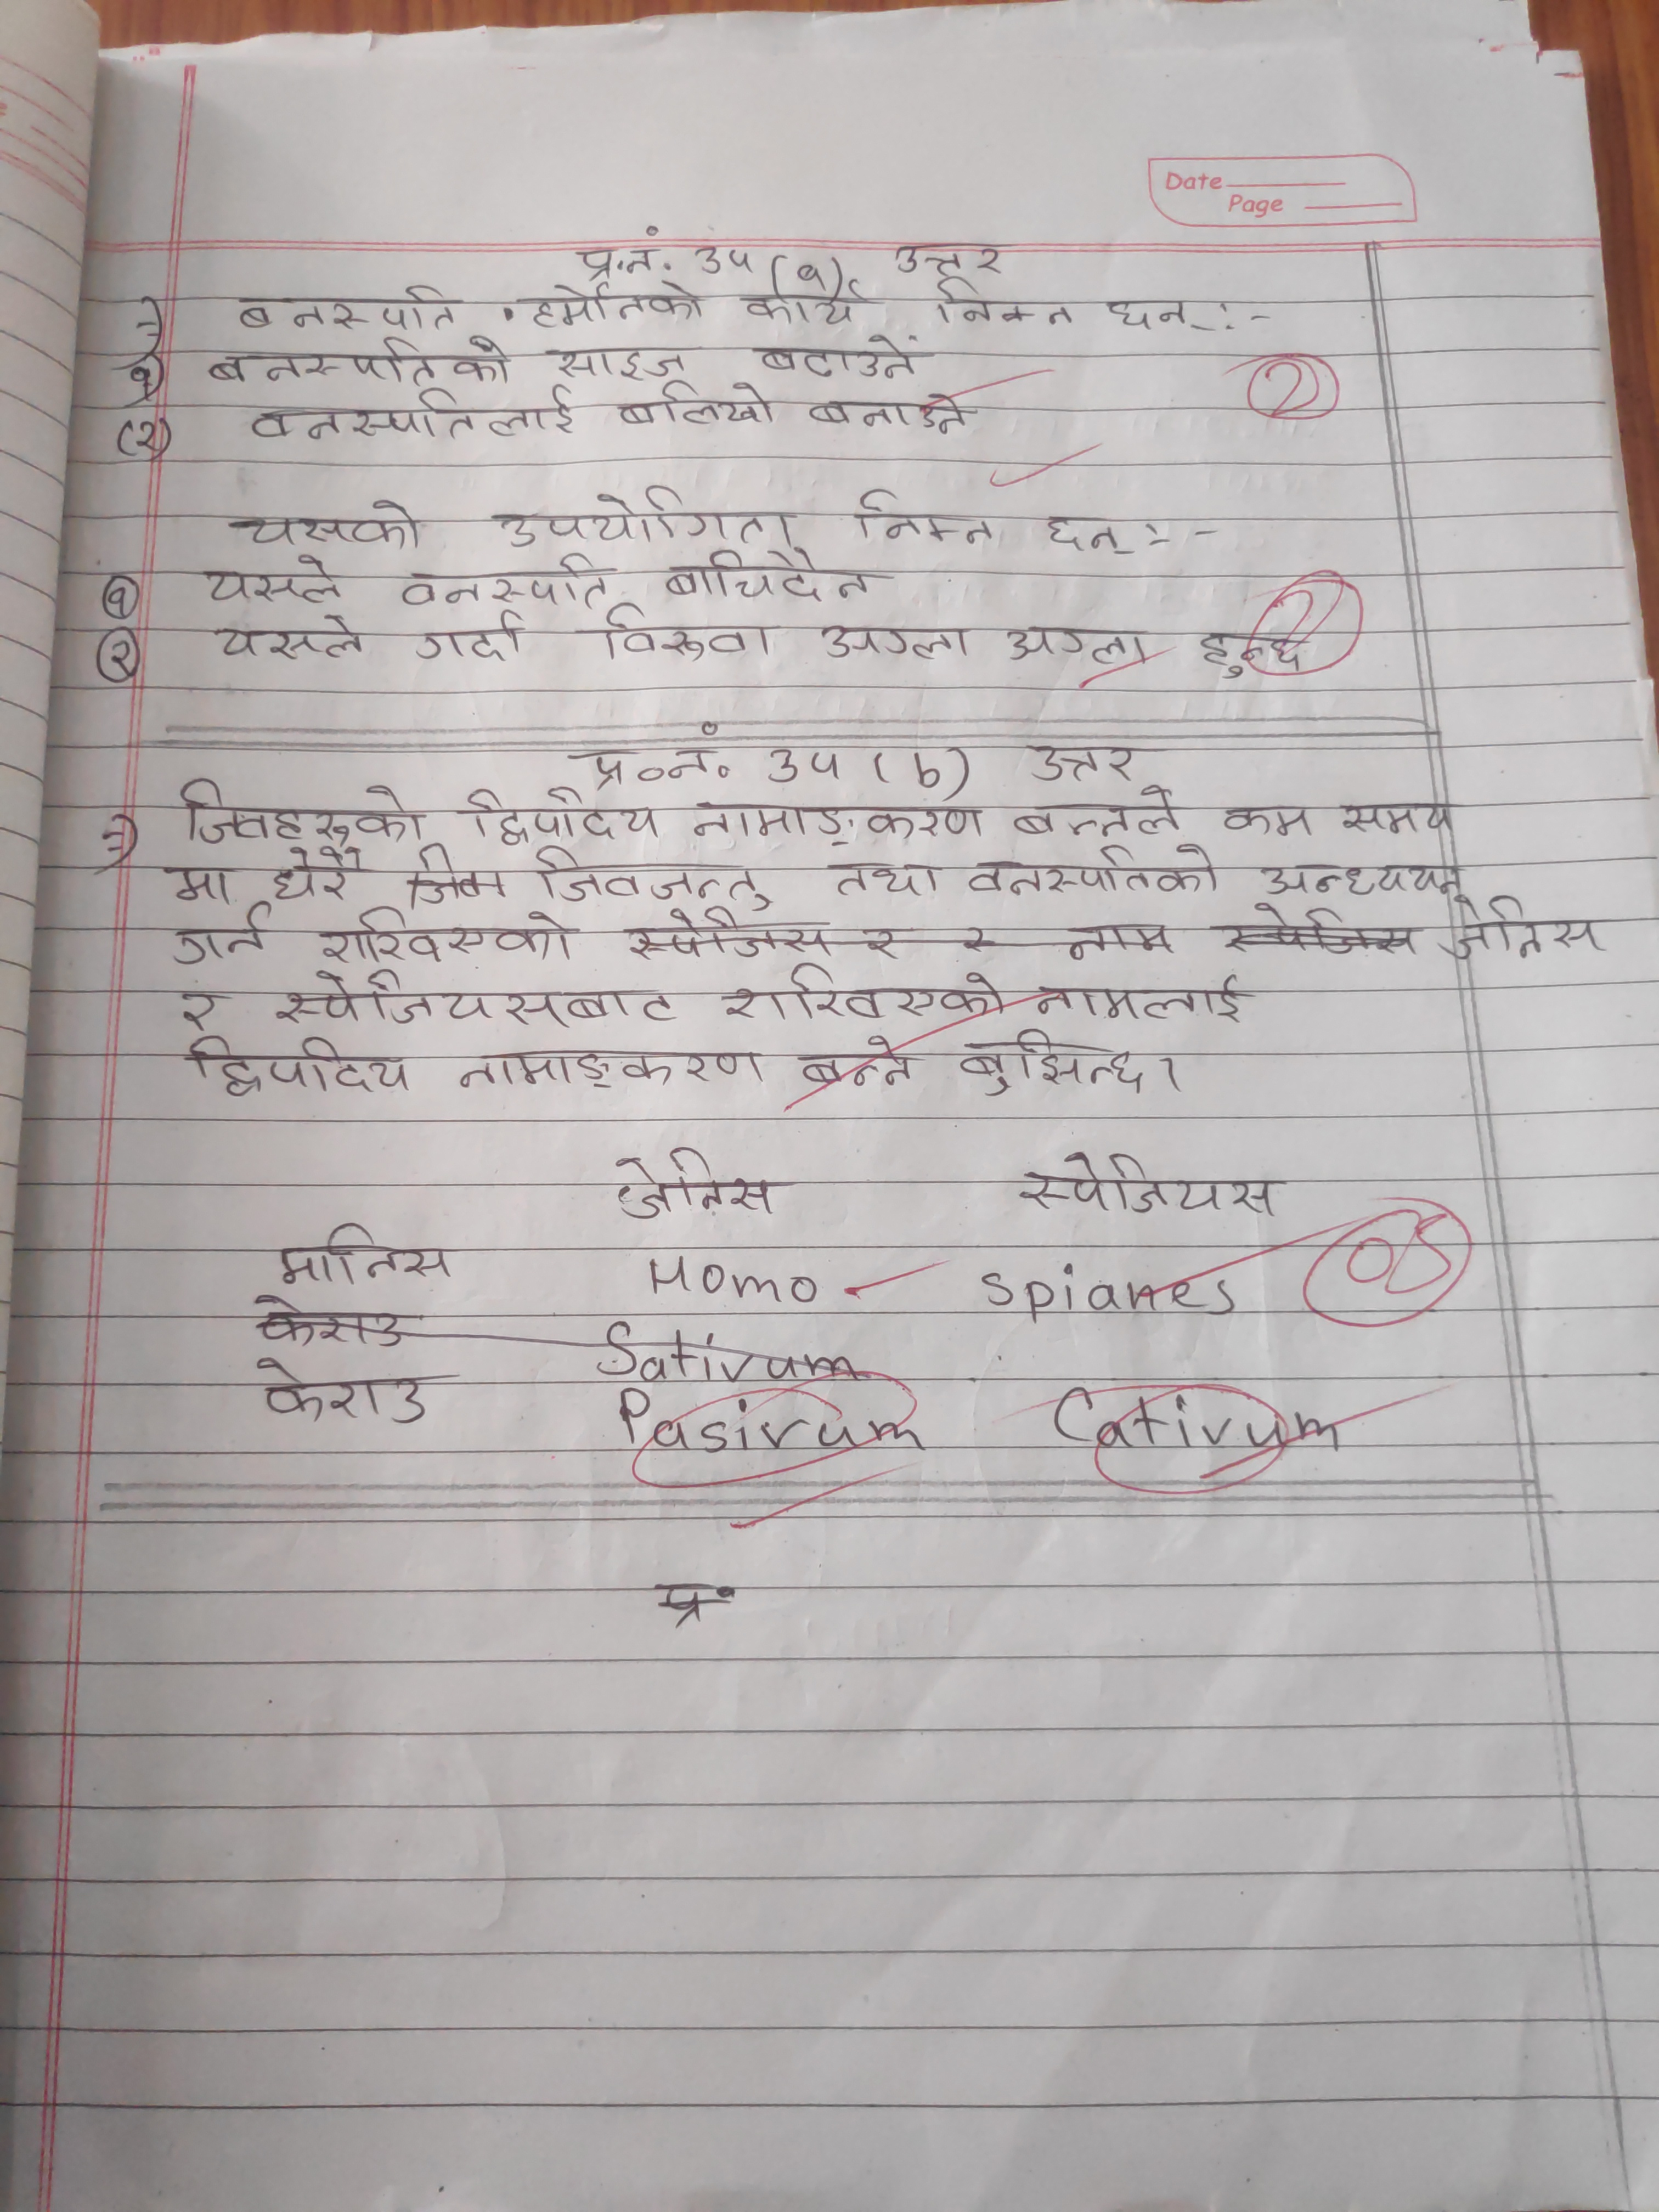text: (272, 967, 681, 1029), (495, 481, 800, 547), (1014, 1150, 1290, 1221), (723, 960, 1011, 1024), (249, 385, 579, 441), (688, 789, 992, 848), (176, 775, 423, 846), (455, 1040, 772, 1094), (204, 336, 519, 390), (317, 900, 577, 965), (183, 1029, 416, 1099), (528, 841, 770, 907), (964, 841, 1227, 900), (606, 1144, 782, 1223), (955, 1031, 1154, 1099), (275, 1219, 455, 1292), (464, 782, 666, 846), (1032, 970, 1256, 1028), (664, 543, 873, 604), (397, 552, 612, 611), (254, 1353, 430, 1425), (1441, 897, 1612, 968), (596, 601, 775, 669), (234, 282, 462, 334), (225, 498, 423, 554), (849, 484, 999, 554), (519, 277, 706, 333), (1012, 784, 1185, 840), (1255, 857, 1469, 900), (805, 381, 974, 435), (927, 272, 1077, 331), (202, 550, 343, 611), (211, 611, 366, 665), (756, 331, 922, 381), (1004, 618, 1154, 671), (613, 383, 781, 428), (577, 730, 713, 786), (798, 1029, 917, 1092), (816, 617, 971, 662), (416, 610, 526, 667), (173, 909, 270, 972), (739, 282, 863, 329), (572, 225, 673, 282), (828, 857, 945, 906), (270, 841, 362, 902), (549, 341, 688, 381), (890, 233, 1014, 277), (1025, 740, 1143, 786), (1105, 293, 1215, 340), (1042, 510, 1141, 561), (1215, 798, 1319, 845), (1335, 796, 1459, 834), (171, 860, 232, 907), (178, 984, 239, 1031), (131, 416, 164, 458), (793, 254, 828, 289), (108, 634, 136, 678), (125, 366, 157, 397), (105, 583, 131, 617)
